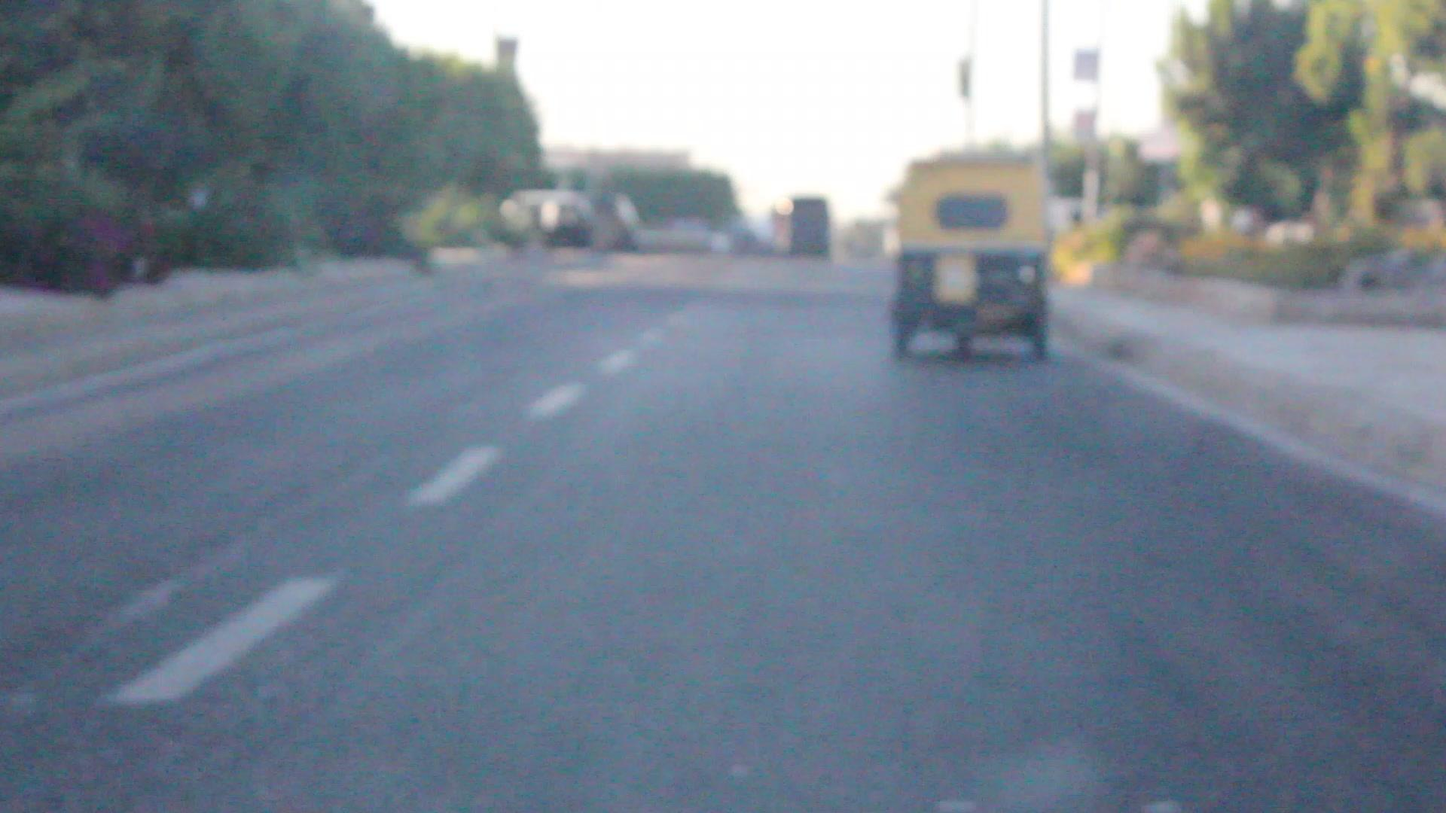Bump: (542, 271, 889, 324)
